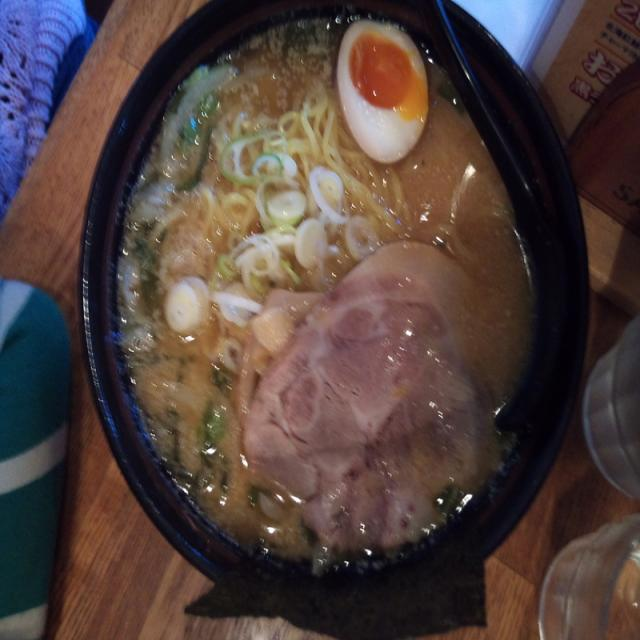面条主食: (133, 9, 533, 572)
